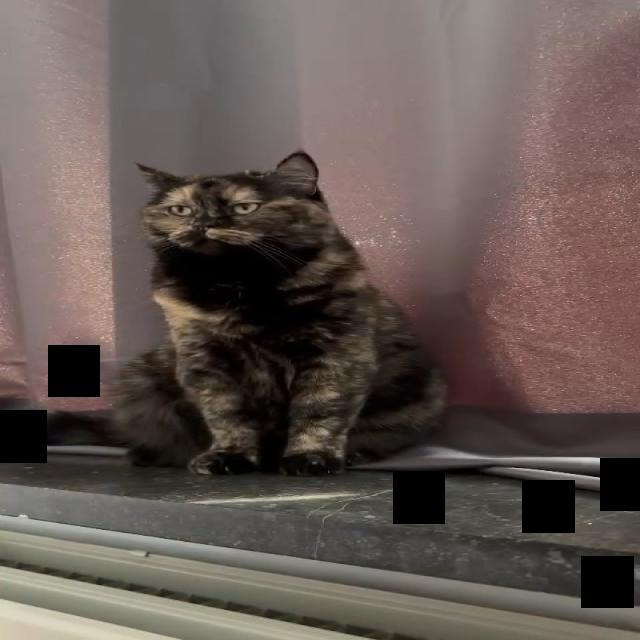authorized: (106, 149, 450, 477)
